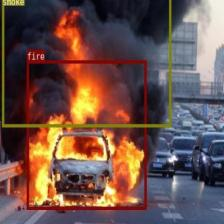fire: (27, 60, 146, 208)
smoke: (1, 0, 170, 126)
